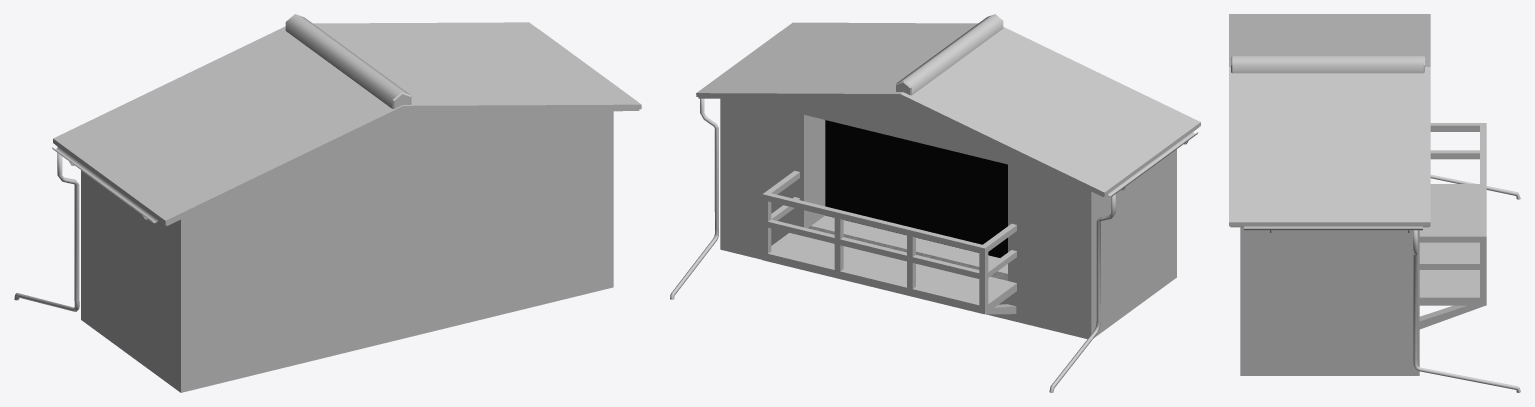
Rendered from JPBM11D2FBase.obj.
3 renders of one model, left to right at view 1: azimuth 30°, elevation 25°; view 2: azimuth 150°, elevation 25°; view 3: azimuth 270°, elevation 25°, orthographic. The views are drawn at different scales.
Visible parts, largest first — view 1: JPBM11D2FBase; view 2: JPBM11D2FBase; view 3: JPBM11D2FBase.
Boxes of the visible parts, <box> form: JPBM11D2FBase: <box>14,14,641,392</box>; JPBM11D2FBase: <box>670,14,1200,392</box>; JPBM11D2FBase: <box>1229,14,1520,392</box>.
Bounding box in the file's own units: 11.24 × 5.95 × 6.51.
